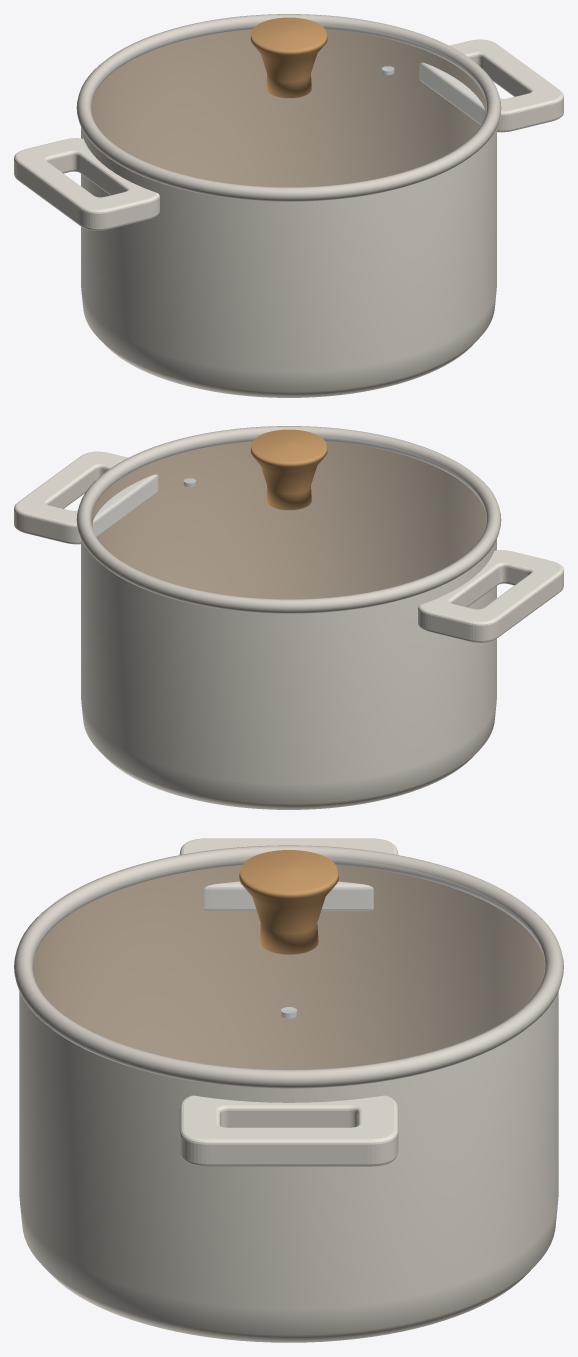
The model's file is fika.glb.
3 renders of one model, top to bottom at view 1: azimuth 30°, elevation 25°; view 2: azimuth 150°, elevation 25°; view 3: azimuth 270°, elevation 25°, orthographic. The views are drawn at different scales.
Parts seen in each view (by area): view 1: Shell, LidGlass, Interior, Handle (×2), LidRim, Knob; view 2: Shell, LidGlass, Interior, Handle (×2), LidRim, Knob; view 3: Shell, LidGlass, Interior, LidRim, Handle (×2), Knob.
Part boxes in pixels (box(x1,y1,x2,y2)): Shell: box(81, 127, 496, 397); LidGlass: box(91, 24, 486, 186); Interior: box(91, 29, 486, 187); Handle (×2): box(14, 39, 563, 230); LidRim: box(76, 14, 501, 201); Knob: box(250, 17, 327, 98); Shell: box(81, 539, 496, 809); LidGlass: box(91, 436, 486, 598); Interior: box(91, 441, 486, 599); Handle (×2): box(14, 451, 563, 642); LidRim: box(76, 426, 501, 613); Knob: box(250, 429, 327, 510); Shell: box(19, 991, 558, 1342); LidGlass: box(32, 858, 545, 1069); Interior: box(33, 865, 544, 1069); LidRim: box(14, 845, 563, 1088); Handle (×2): box(179, 838, 398, 1166); Knob: box(239, 850, 338, 954).
Size of the model in its own units: 0.267 by 0.152 by 0.204.
